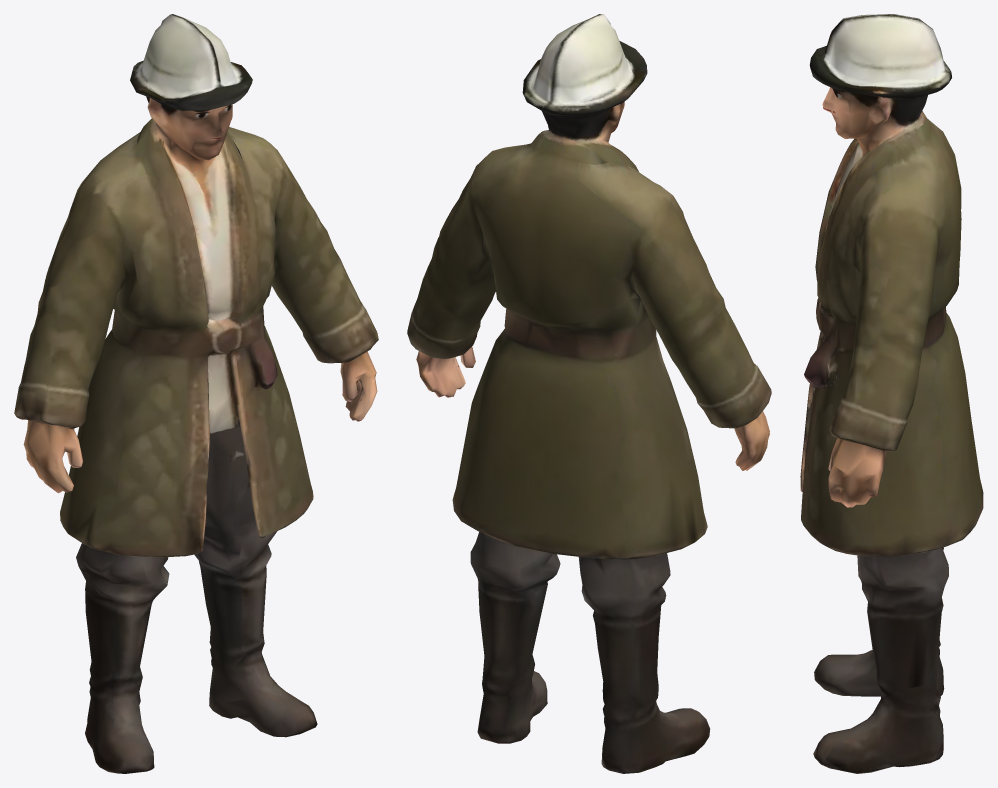
The model's file is herder-erlan.gen.glb.
The picture shows the model from 3 angles, left to right: view 1: azimuth 30°, elevation 25°; view 2: azimuth 150°, elevation 25°; view 3: azimuth 270°, elevation 25°; orthographic projection.
Parts seen in each view (by area): view 1: herder-erlan.raw; view 2: herder-erlan.raw; view 3: herder-erlan.raw.
Boxes of the visible parts, <box> form: herder-erlan.raw: <box>14,14,378,773</box>; herder-erlan.raw: <box>407,14,771,773</box>; herder-erlan.raw: <box>800,14,983,773</box>.
Bounding box in the file's own units: 0.9566 × 1.85 × 0.4318.
Materials: 1 (1 with a texture image).
